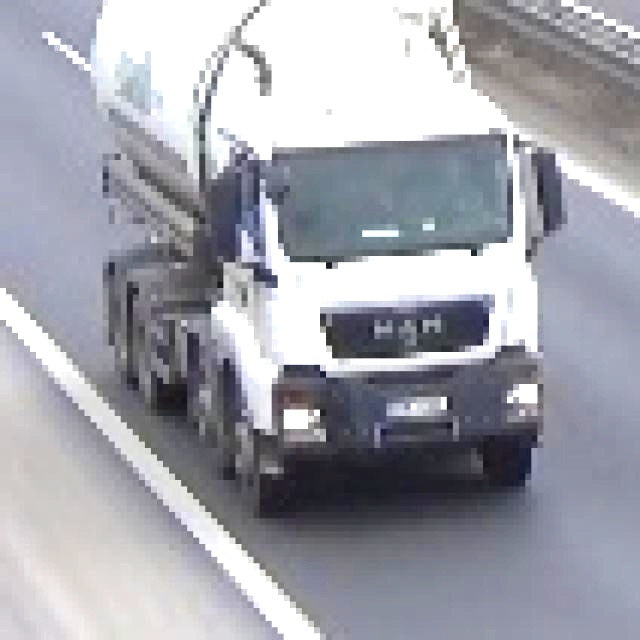truck: (52, 6, 584, 528)
